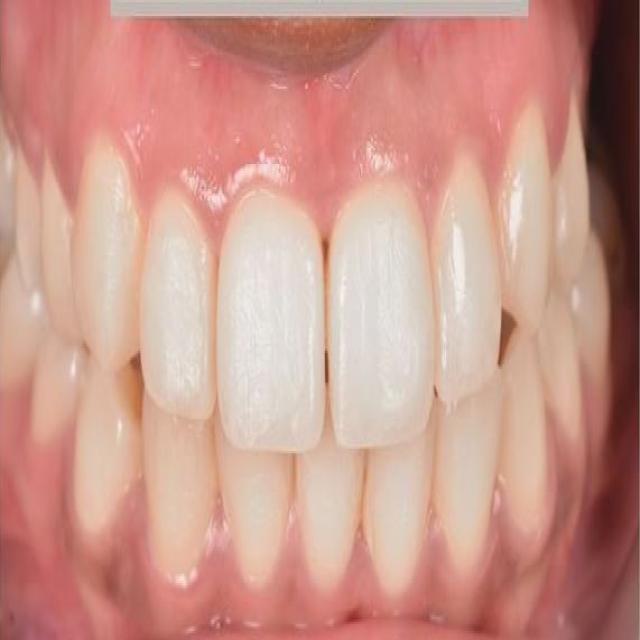1st Molar: (588, 158, 630, 305), (0, 254, 45, 389), (0, 116, 17, 241)
1st Premolar: (75, 360, 141, 539), (539, 276, 584, 443), (40, 164, 78, 343), (554, 105, 591, 285)
2nd Premolar: (29, 336, 86, 449), (572, 235, 610, 389), (15, 147, 40, 285)
Canine: (74, 139, 143, 369), (493, 100, 553, 335), (143, 405, 217, 586), (500, 333, 553, 550)
Central Incisor: (217, 187, 327, 456), (328, 178, 437, 449), (362, 433, 432, 608), (297, 446, 365, 604)
Lateral Incisor: (139, 187, 219, 421), (434, 155, 503, 405), (436, 372, 507, 576), (219, 446, 297, 594)
